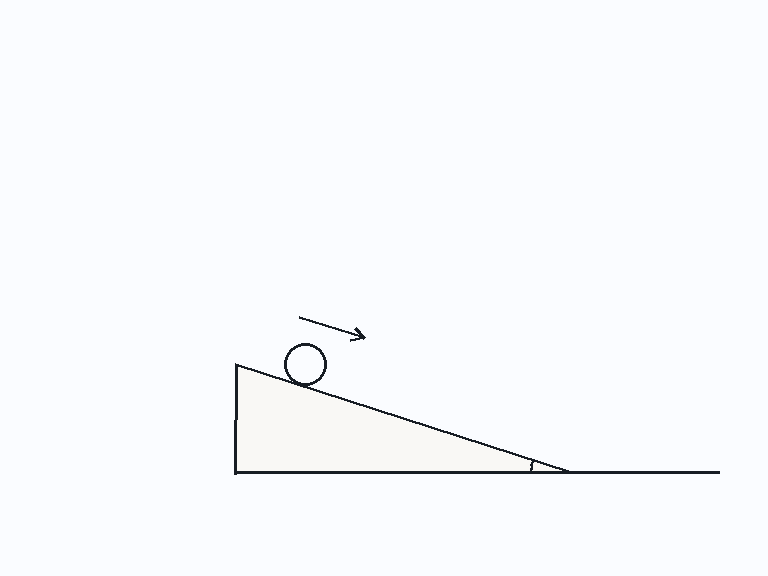ball: (282, 341, 328, 387)
ramp: (234, 361, 573, 474)
